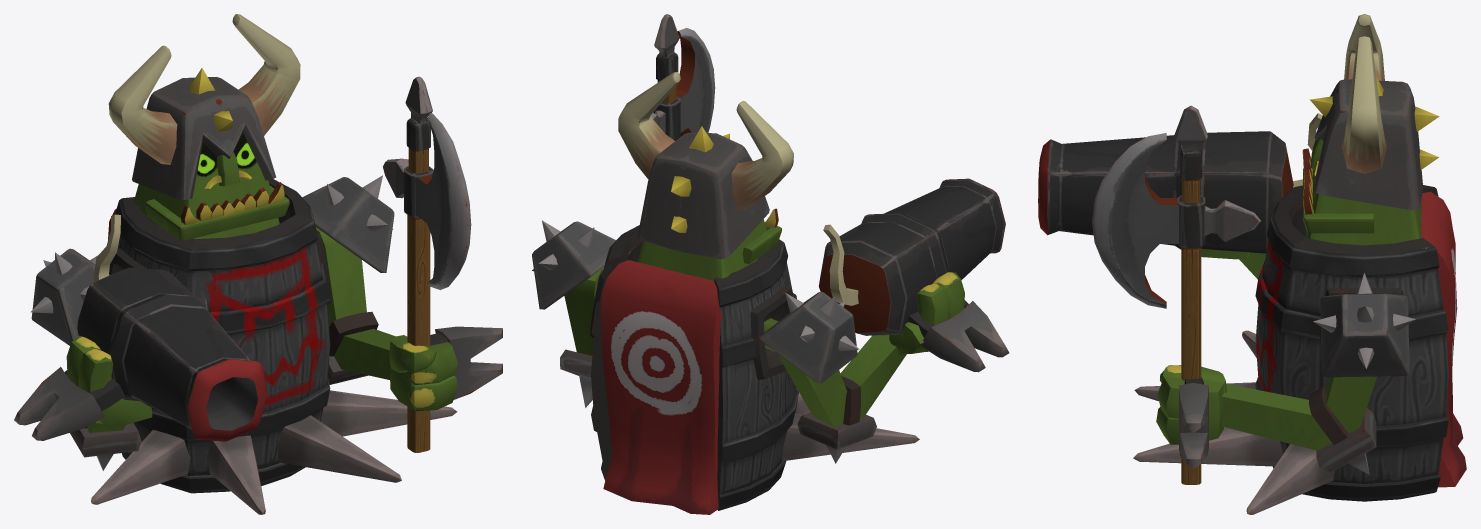
Rendered from gobling king.glb.
The picture shows the model from 3 angles, left to right: view 1: azimuth 30°, elevation 25°; view 2: azimuth 150°, elevation 25°; view 3: azimuth 270°, elevation 25°; orthographic projection. The views are drawn at different scales.
Visible parts, largest first — view 1: Goblin_Boss_Barrel, Goblin_Boss_Cannon, Goblin_Boss_Helmet, Goblin_Boss_Axe, Goblin_Boss_RightHand, Goblin_Boss_LeftHand, Goblin_Boss_LeftArm, Goblin_Boss_Shoulder, Goblin_Boss_Head, Goblin_Boss_Shoulder.001, Goblin_Boss_Jaw, Goblin_Boss_RightArm; view 2: Goblin_Boss_Cape, Goblin_Boss_Barrel, Goblin_Boss_Helmet, Goblin_Boss_Cannon, Goblin_Boss_RightArm, Goblin_Boss_RightHand, Goblin_Boss_Shoulder.001, Goblin_Boss_Axe, Goblin_Boss_Shoulder, Goblin_Boss_LeftArm, Goblin_Boss_Head, Goblin_Boss_Jaw; view 3: Goblin_Boss_Barrel, Goblin_Boss_Axe, Goblin_Boss_Cannon, Goblin_Boss_Helmet, Goblin_Boss_LeftArm, Goblin_Boss_Shoulder, Goblin_Boss_LeftHand, Goblin_Boss_Cape, Goblin_Boss_Head, Goblin_Boss_Jaw.
Part boxes in pixels (x1,y1,x2,y2): Goblin_Boss_Barrel: (91,179,457,514); Goblin_Boss_Cannon: (77,214,267,441); Goblin_Boss_Helmet: (108,14,300,199); Goblin_Boss_Axe: (383,76,471,452); Goblin_Boss_RightHand: (14,335,152,440); Goblin_Boss_LeftHand: (389,326,502,411); Goblin_Boss_LeftArm: (316,227,395,384); Goblin_Boss_Shoulder: (302,175,394,272); Goblin_Boss_Head: (134,133,279,238); Goblin_Boss_Shoulder.001: (30,248,109,345); Goblin_Boss_Jaw: (145,182,289,240); Goblin_Boss_RightArm: (70,422,141,470); Goblin_Boss_Cape: (601,260,721,514); Goblin_Boss_Barrel: (590,225,919,510); Goblin_Boss_Helmet: (618,72,793,258); Goblin_Boss_Cannon: (818,178,1005,335); Goblin_Boss_RightArm: (764,318,906,463); Goblin_Boss_RightHand: (889,272,1009,372); Goblin_Boss_Shoulder.001: (759,291,859,383); Goblin_Boss_Axe: (651,14,715,140); Goblin_Boss_Shoulder: (532,220,615,309); Goblin_Boss_LeftArm: (560,267,604,407); Goblin_Boss_Head: (638,219,766,280); Goblin_Boss_Jaw: (742,208,781,264); Goblin_Boss_Barrel: (1133,185,1448,514); Goblin_Boss_Axe: (1092,105,1260,484); Goblin_Boss_Cannon: (1038,113,1322,253); Goblin_Boss_Helmet: (1310,14,1439,210); Goblin_Boss_LeftArm: (1222,376,1376,474); Goblin_Boss_Shoulder: (1313,273,1415,377); Goblin_Boss_LeftHand: (1156,365,1226,468); Goblin_Boss_Cape: (1421,192,1466,487); Goblin_Boss_Head: (1305,139,1421,245); Goblin_Boss_Jaw: (1302,148,1374,233).
Size of the model in its own units: 4.16 by 3.72 by 3.31.
Materials: 2 (2 with a texture image).
